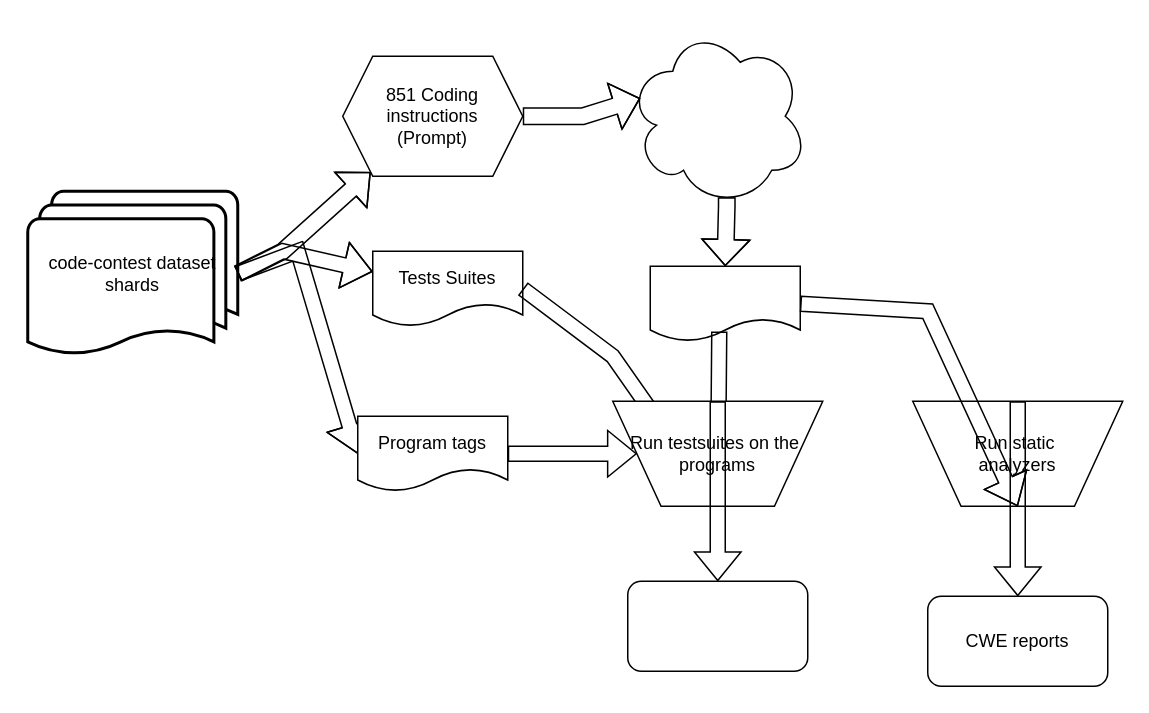
Some shapes in this 1149 by 713 pixel diagram are drawn without their labels. The shapes that lost their labels are listed below. From the top down, each one's centre as x and y in pixels, then its label:
the point at 717,115: Openrouter API call to three models
the point at 724,303: Generated programs
the point at 717,625: Test Pass Rate
